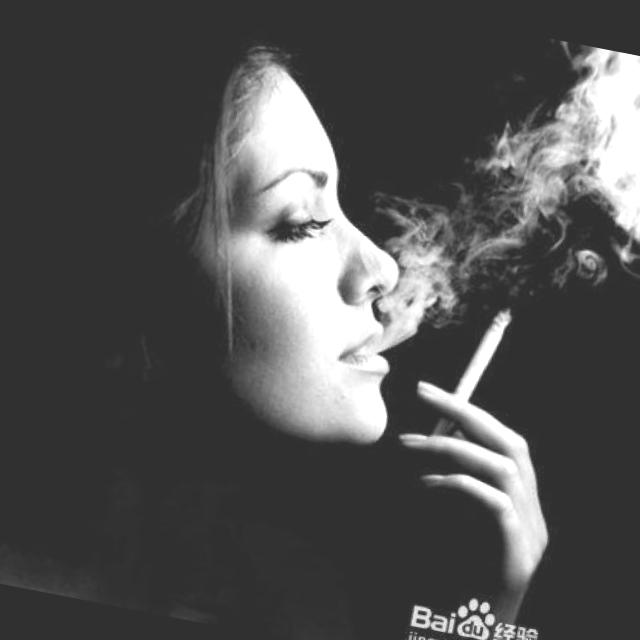cigarette: (432, 275, 526, 448)
